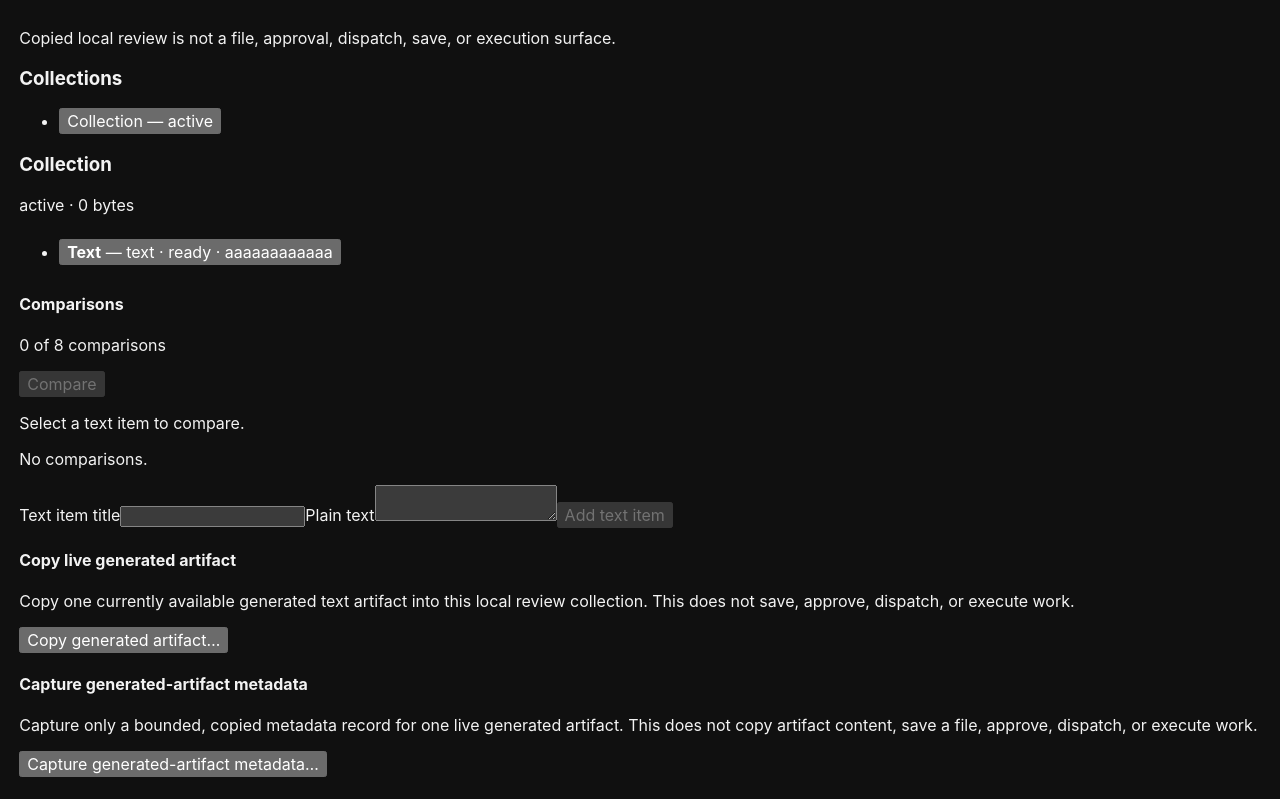
Test case: local review image pane › renders markdown text only as inert Markdown source
The image size is (1280, 799).
What coordinates should you click on to do the following:
click the button "Text — text"
I would click on:
 (200, 252)
Its box is [59, 239, 341, 265].
(page scrolled)
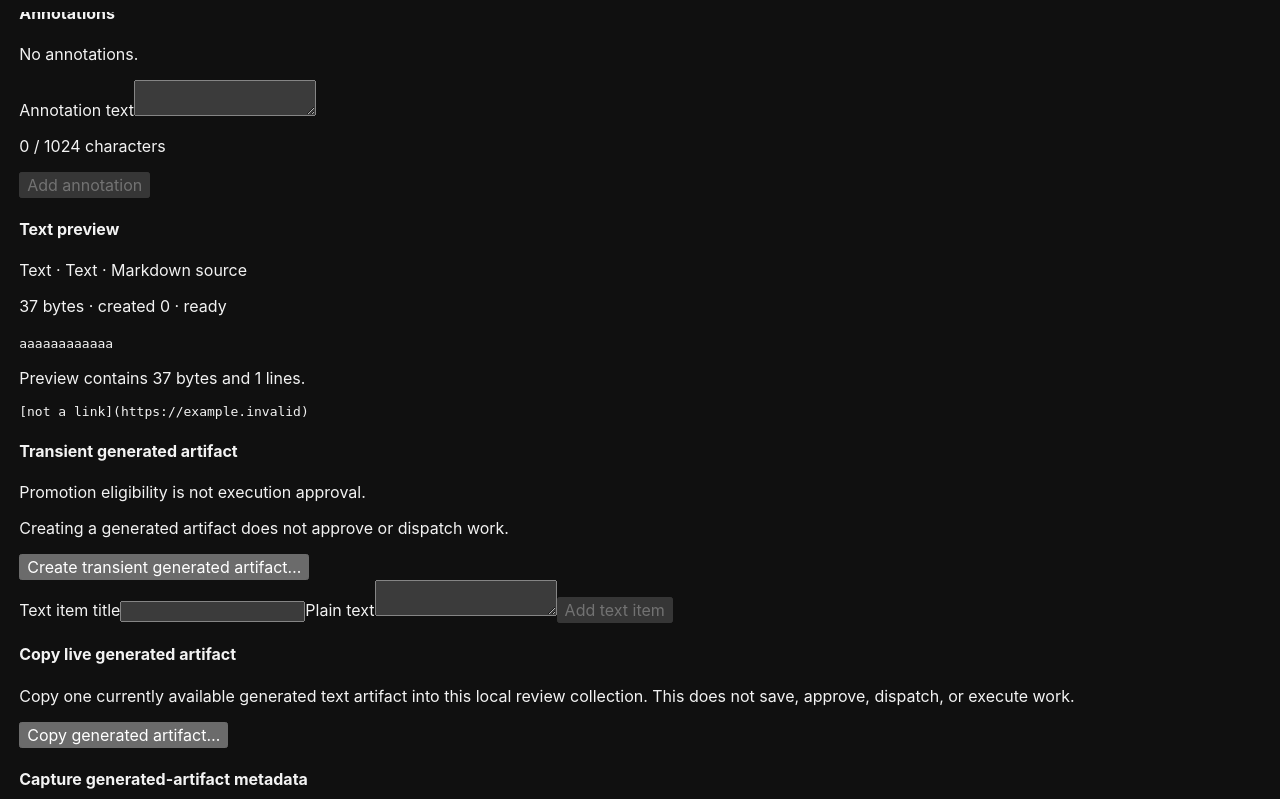
Now the text "[not a link](https://example.invalid)" is shown, box [19, 404, 309, 420]
